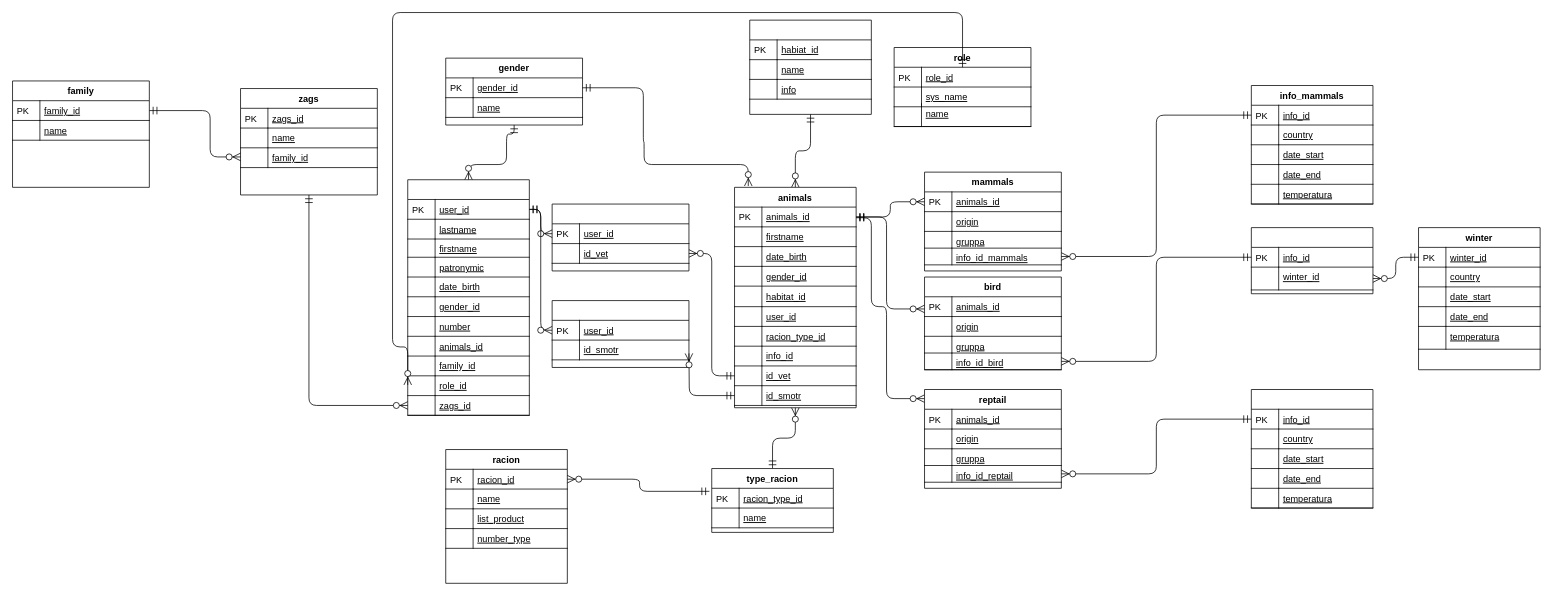
This 1553x596 diagram has some shape labels left out. Each missing label, with the box of its shape:
info_bird: (1251, 227, 1373, 294)
info_reptail: (1251, 389, 1373, 508)
personal: (407, 179, 529, 415)
smotryachie: (551, 300, 689, 367)
veterinar: (551, 203, 689, 271)
zona_obtabya: (749, 19, 871, 114)
